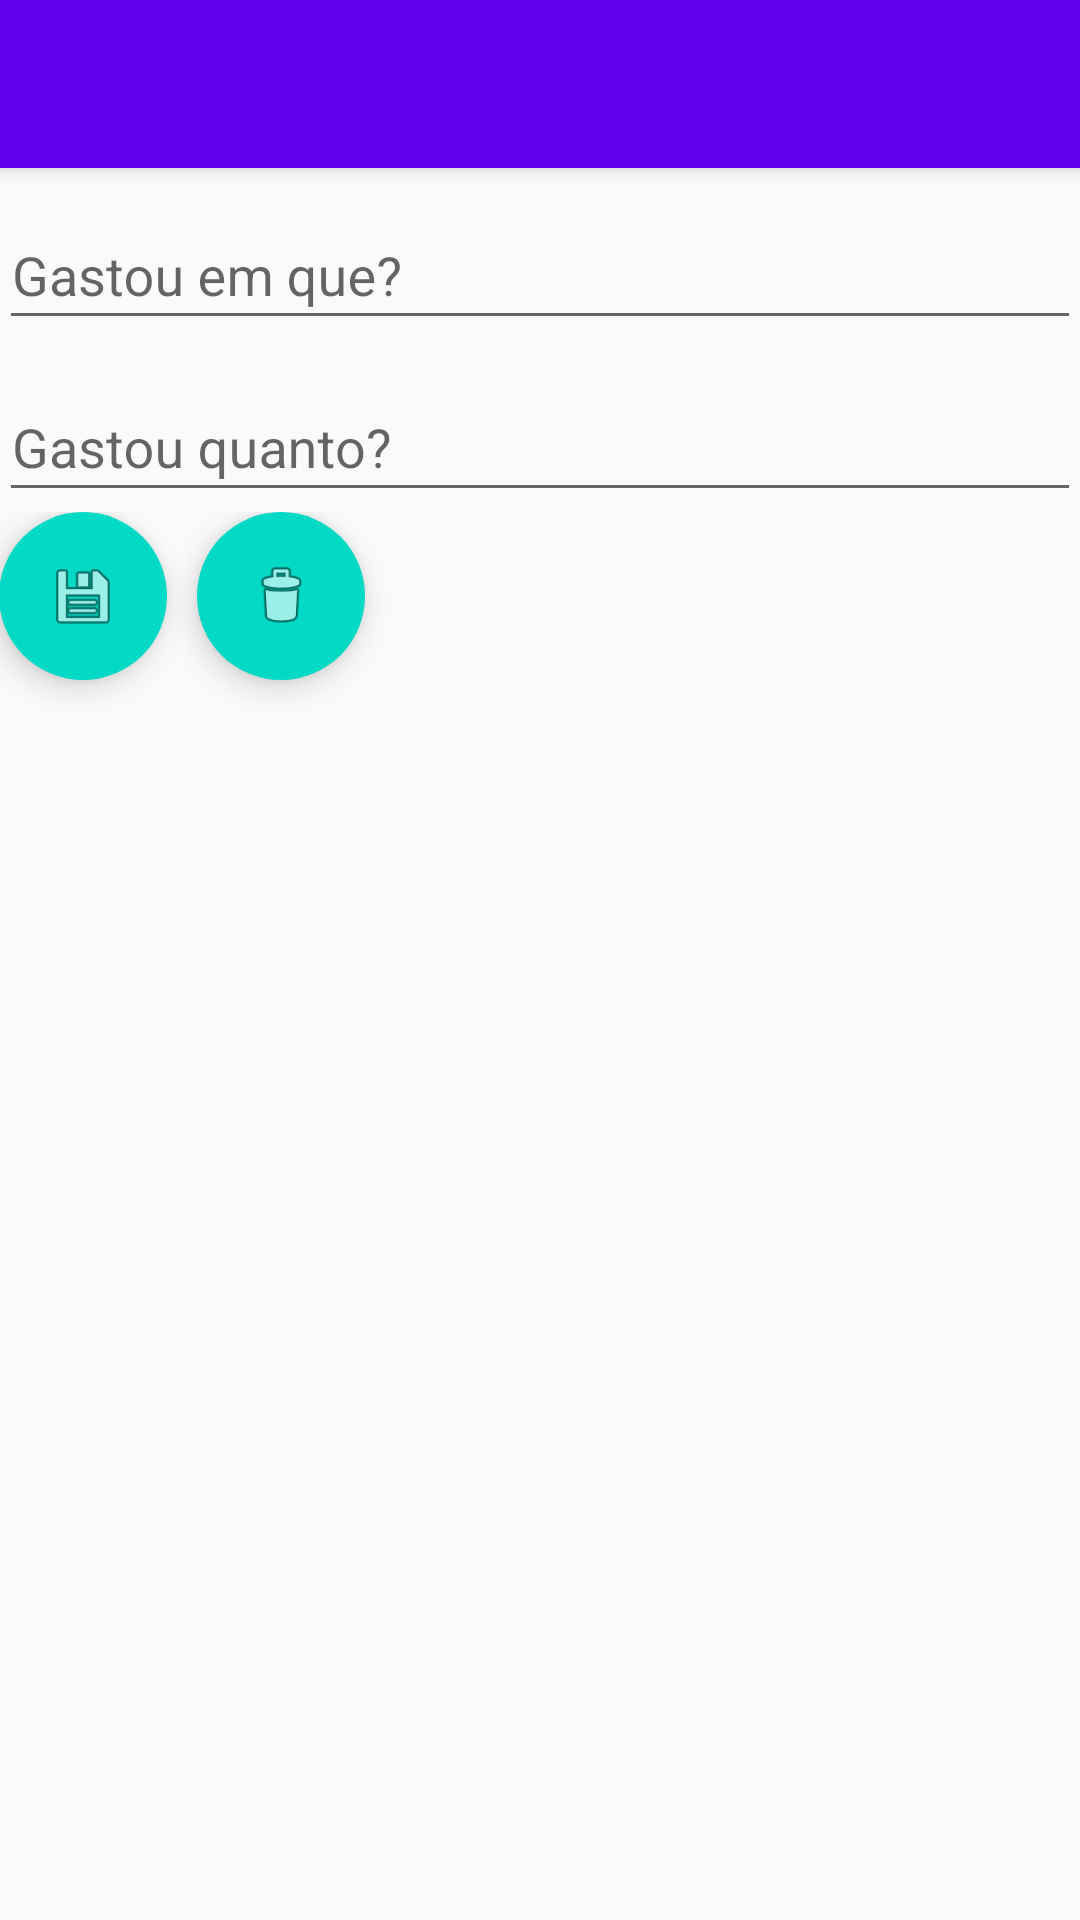

Locate icon controls on the screen. Image size 1080px x 1920px, boxes as (x1, y1, x2, y2).
delete: (197, 512, 365, 680)
save: (0, 512, 167, 680)
